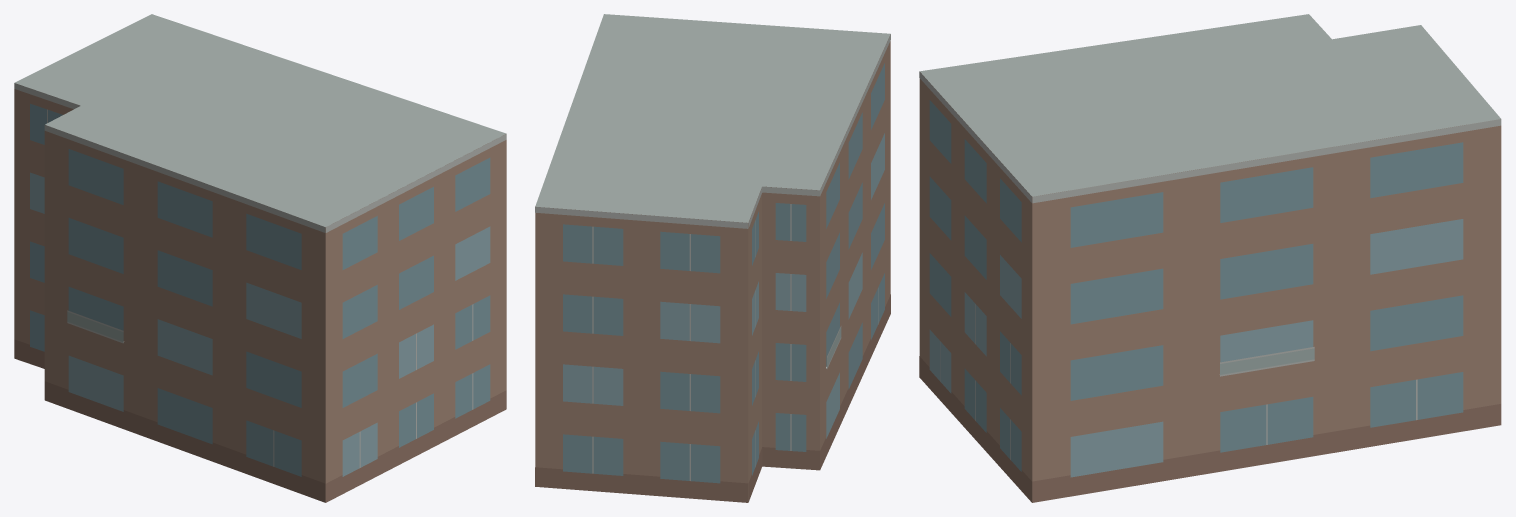
File: survey-upis-32617532.glb
3 renders of one model, left to right at view 1: azimuth 30°, elevation 25°; view 2: azimuth 150°, elevation 25°; view 3: azimuth 270°, elevation 25°, orthographic. The views are drawn at different scales.
Parts seen in each view (by area): view 1: survey-upis-32617532.tmp; view 2: survey-upis-32617532.tmp; view 3: survey-upis-32617532.tmp.
Part boxes in pixels (x1,y1,x2,y2): survey-upis-32617532.tmp: [14, 14, 506, 502]; survey-upis-32617532.tmp: [535, 14, 890, 502]; survey-upis-32617532.tmp: [919, 14, 1501, 502].
Bounding box in the file's own units: 14.48 × 11.3 × 19.48.
